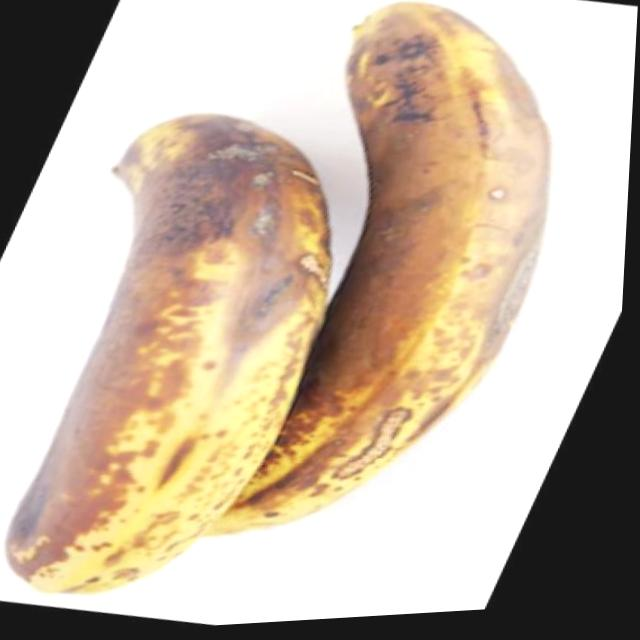banana: (2, 0, 560, 597)
